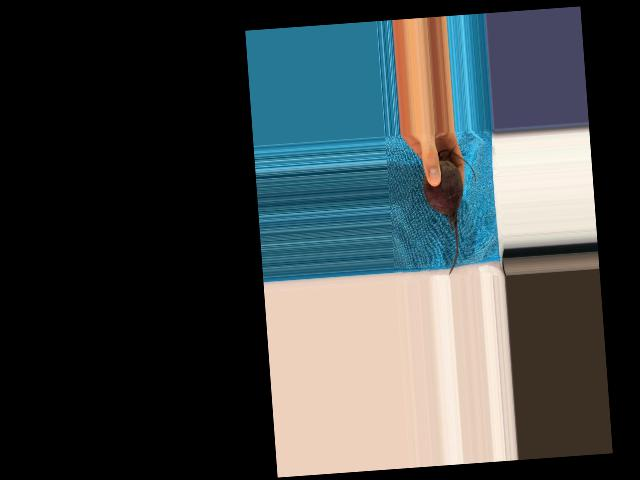beet: (420, 148, 481, 276)
